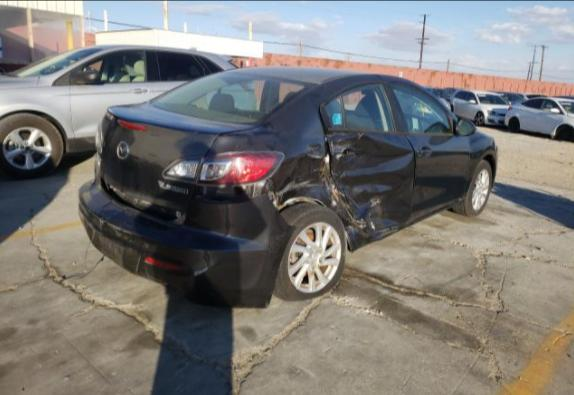Broken part: (318, 80, 415, 238), (244, 142, 367, 247), (89, 174, 296, 232)
Missing part: (342, 148, 359, 156)
Scratch: (83, 201, 187, 268)
